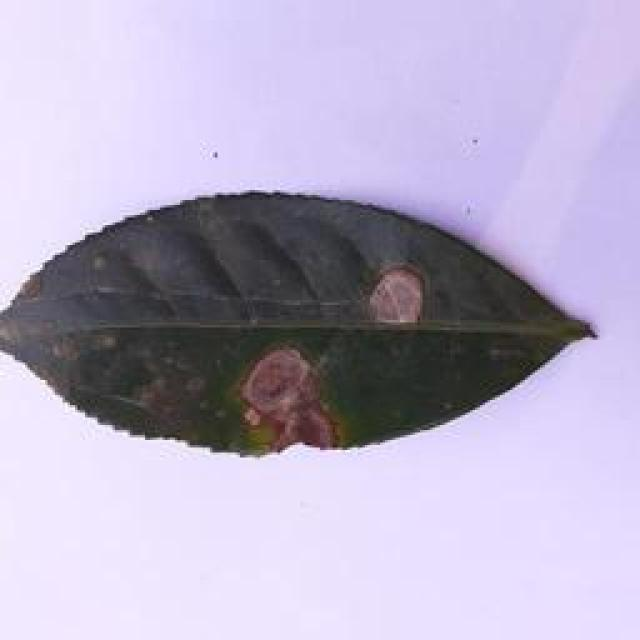Gray Blight: (0, 193, 602, 465)
